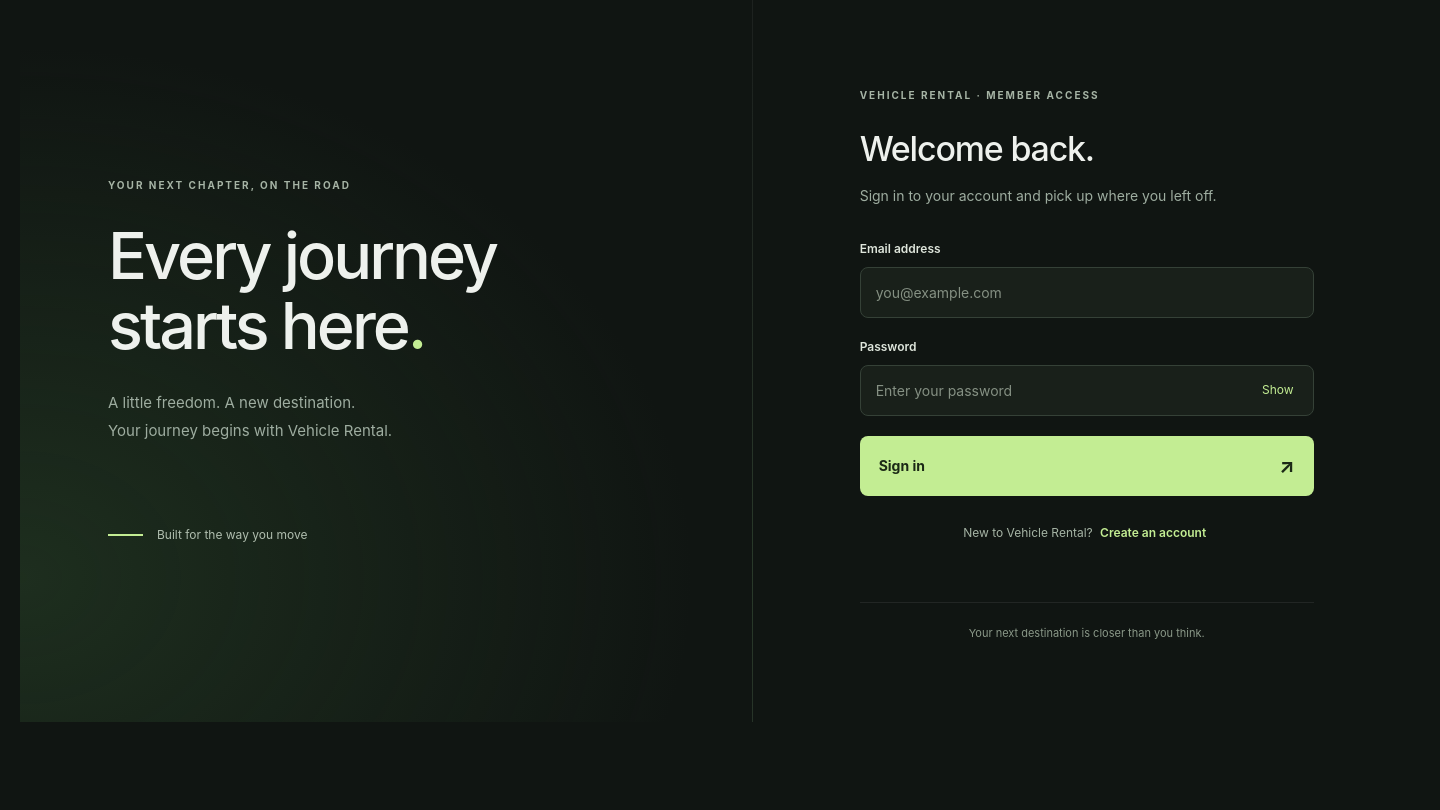
Test: authentication UI › validates password strength
The image size is (1440, 810).
Click the button "Create an account" at coordinates (1153, 533), box [1096,520,1210,546]
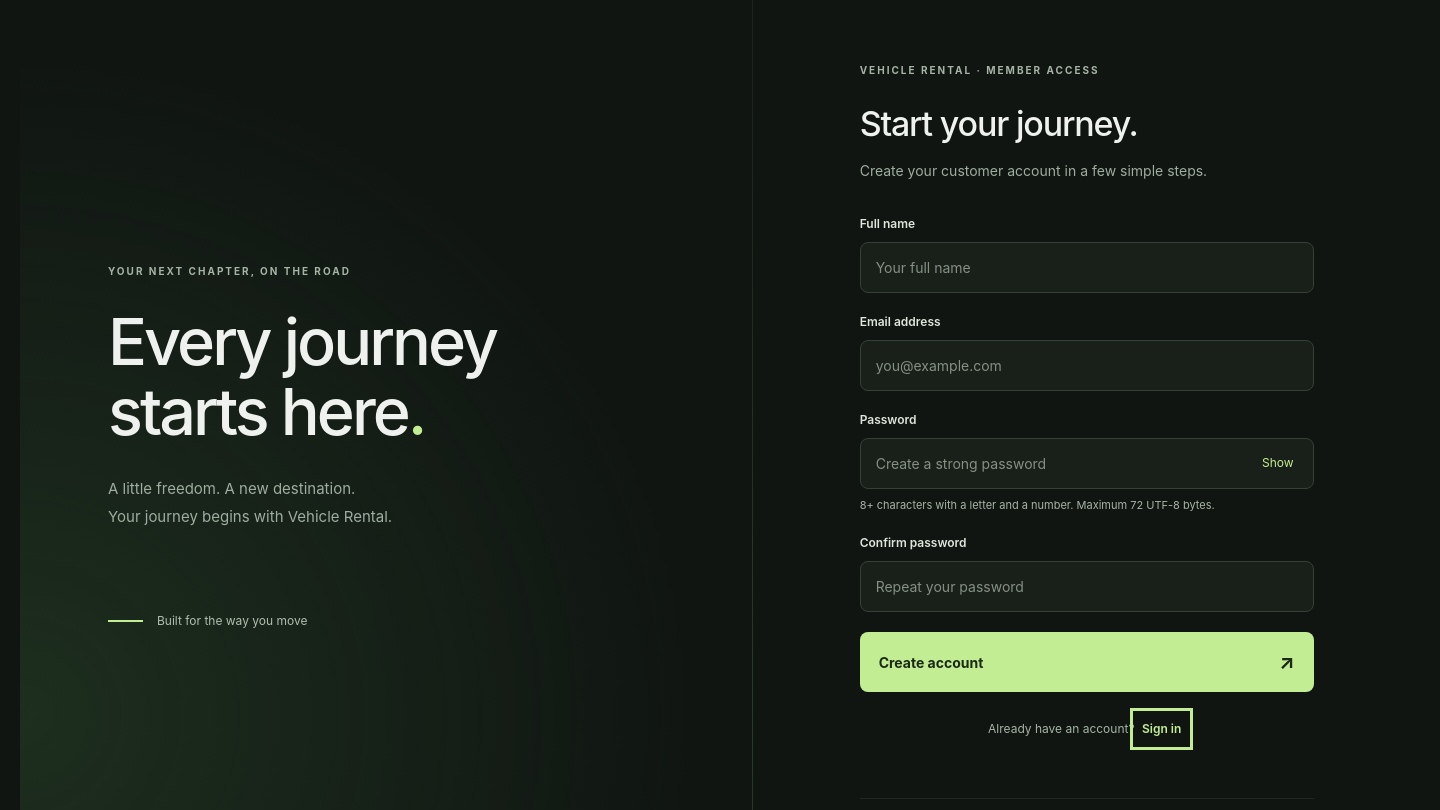
Type "Test Driver" into the field labelled "Full name" at coordinates (1087, 267), box [860,242,1314,293]
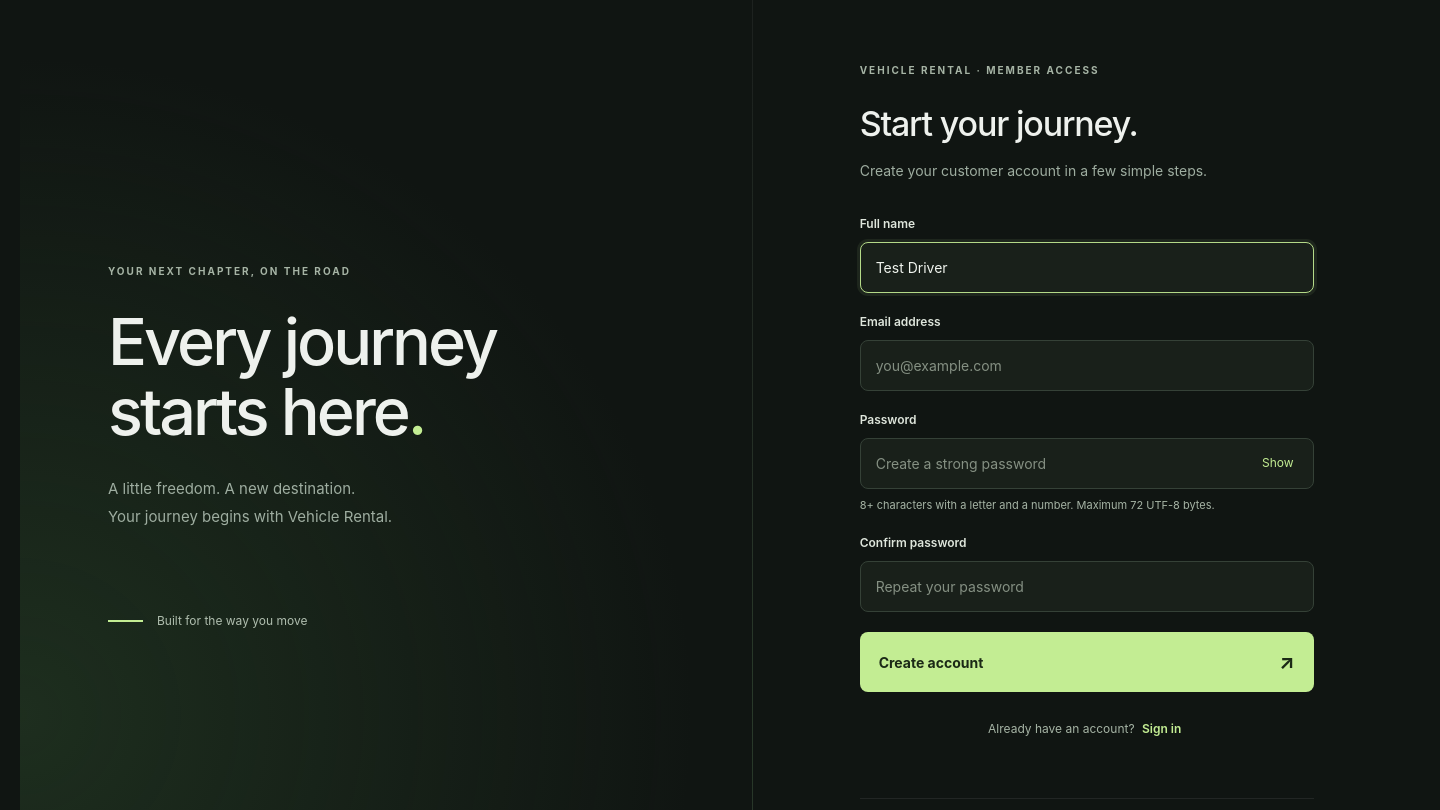
Type "driver@example.com" into the field labelled "Email address" at coordinates (1087, 365), box [860,340,1314,391]
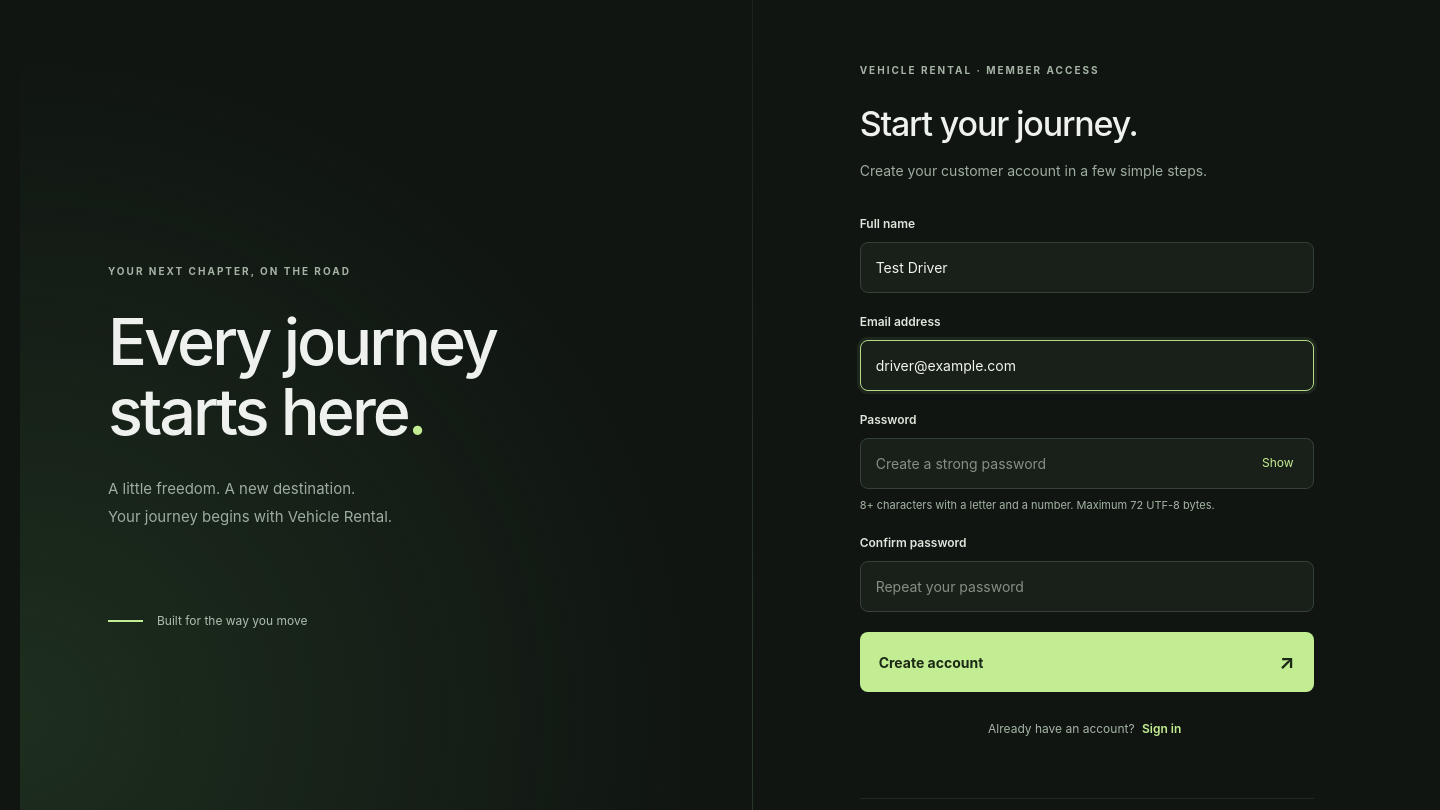
Type "weak" into the password field labelled "Password" at coordinates (1087, 463), box [860,438,1314,489]
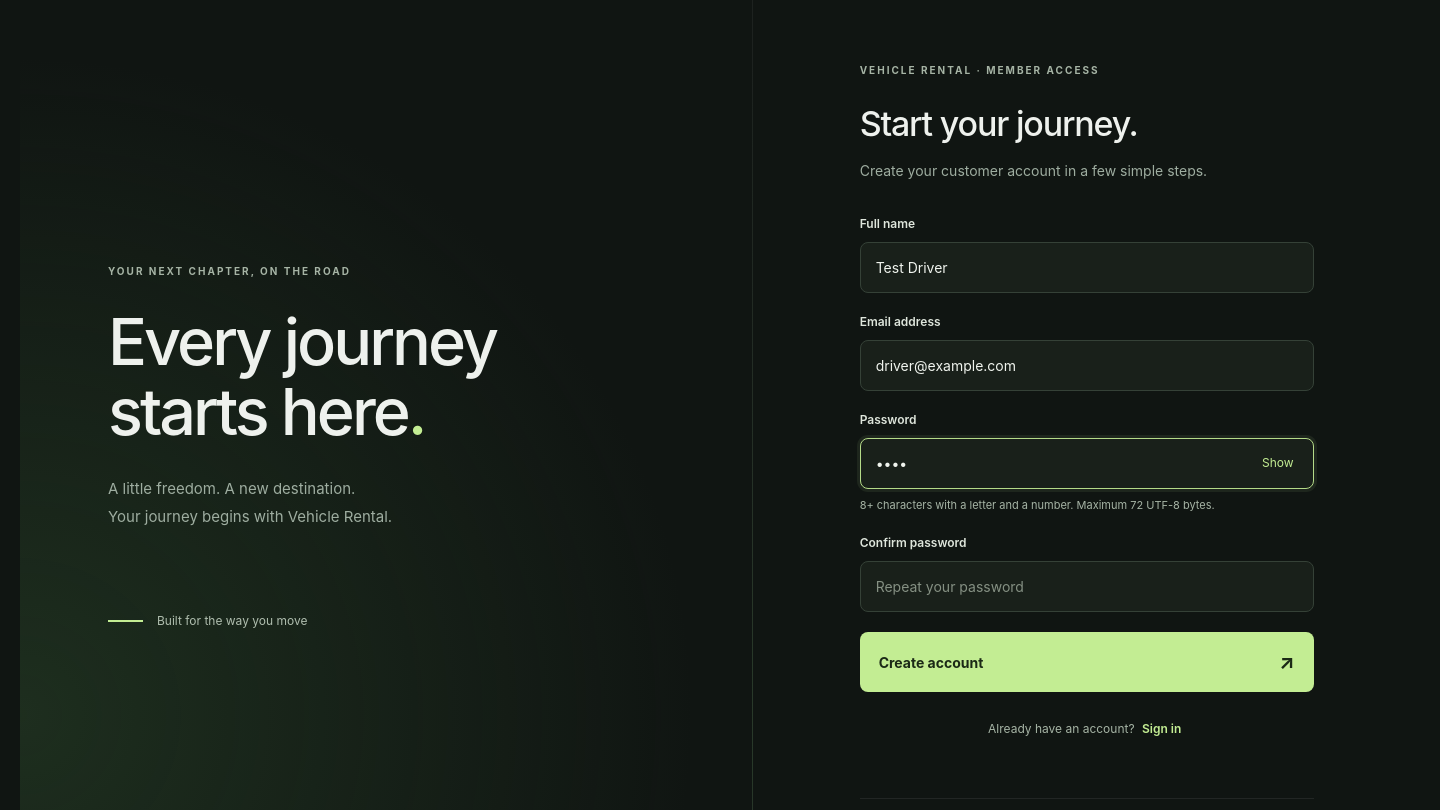
Type "weak" into the password field labelled "Confirm password" at coordinates (1087, 587), box [860,561,1314,612]
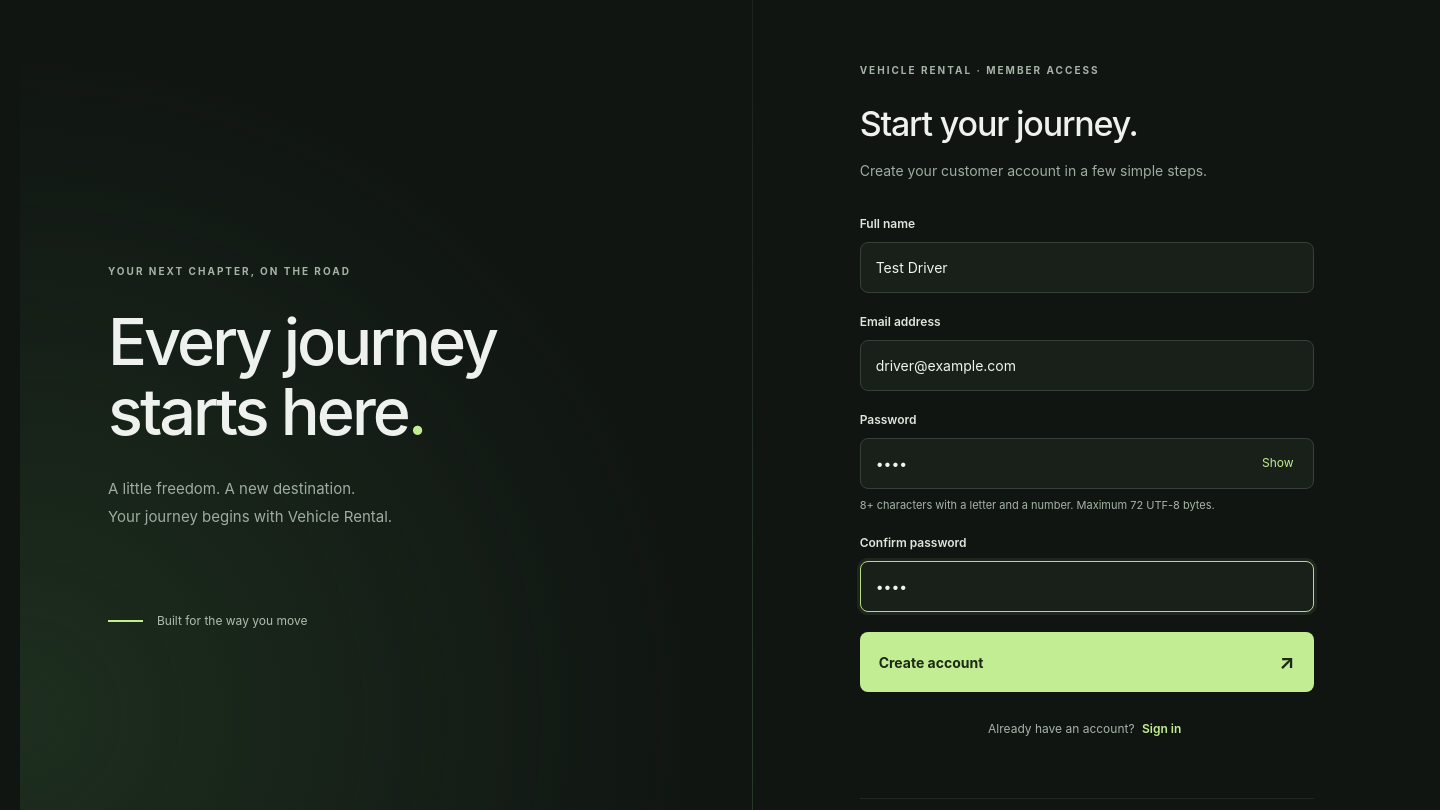
Click the button "Create account ↗" at coordinates (931, 662), box [860,632,1314,692]
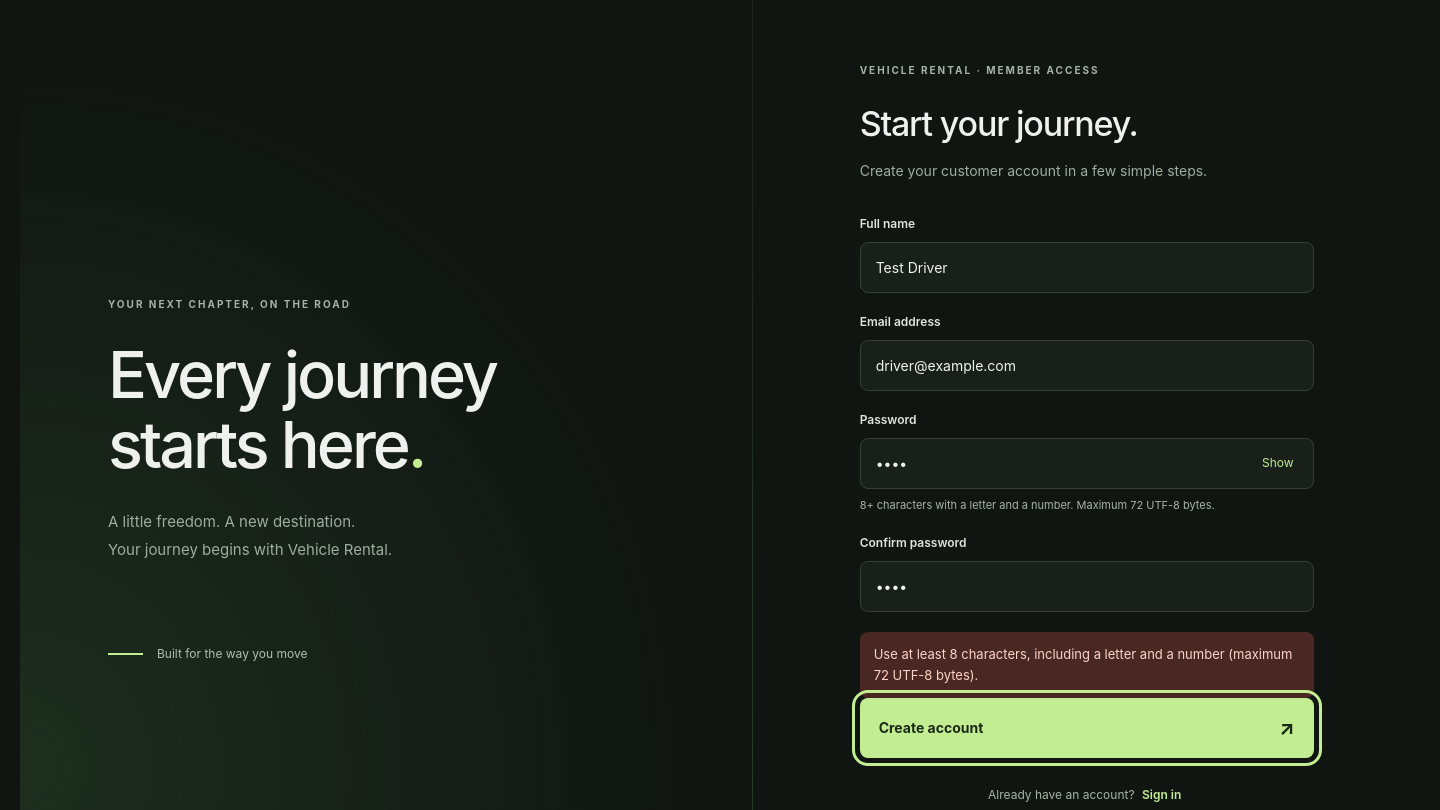
Expected: the message shows "at least 8", [874,646,1292,683]
